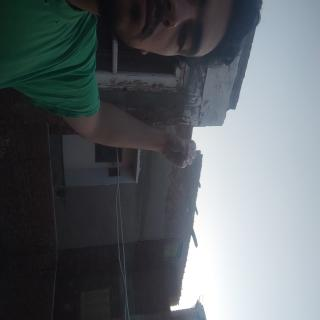HA: (92, 158, 132, 212)
